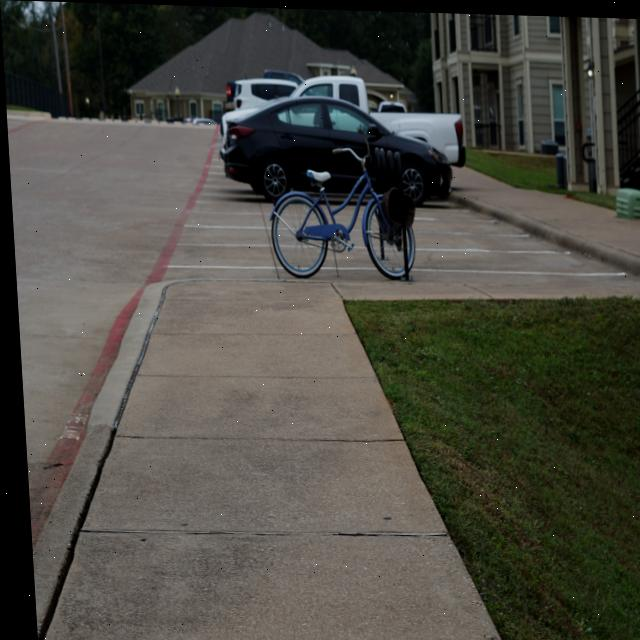Automobile: (219, 69, 464, 204)
Obstacle: (268, 145, 413, 277), (614, 184, 640, 215)
Road: (6, 117, 273, 532), (408, 199, 625, 284), (308, 210, 382, 279)
Sidewalk: (26, 278, 640, 640), (447, 164, 640, 273)
